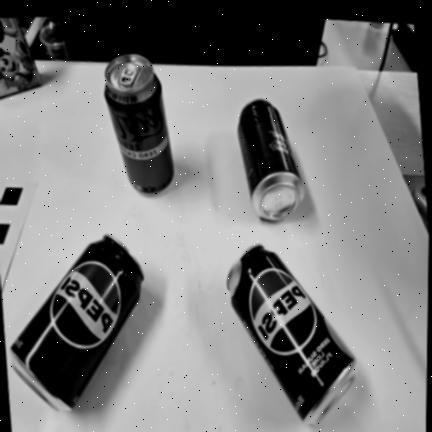can_coke_decaf: (105, 54, 174, 195)
can_coke_zero: (238, 99, 304, 220)
can_pepsi: (11, 236, 144, 410)
can_pepsi_zero: (229, 246, 357, 424)
